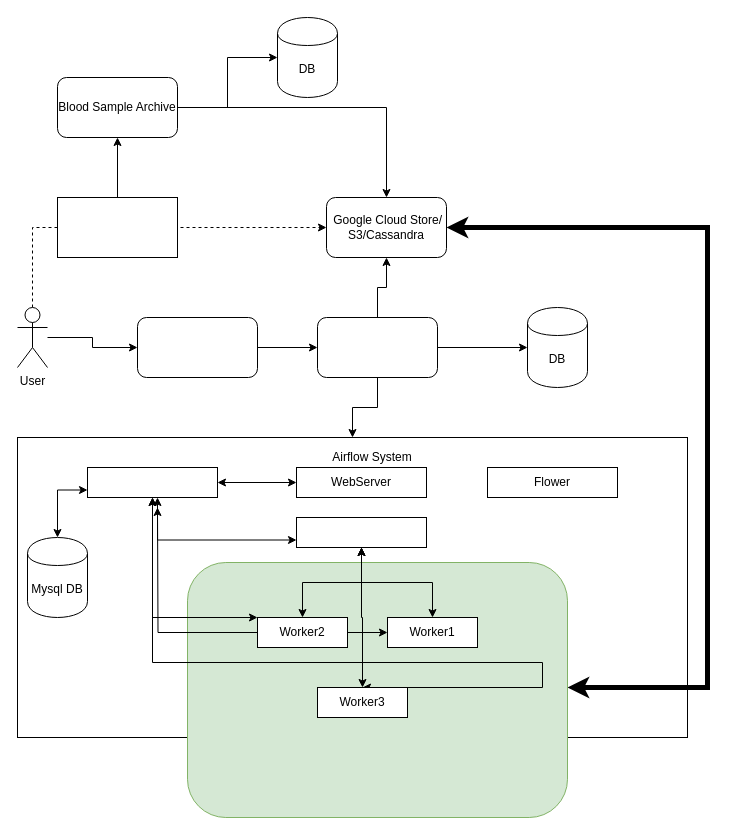
Some shapes in this 736 by 835 pixel diagram are drawn without their labels. The shapes that lost their labels are listed below. From the top down, each one's centre as x and y in pixels, then its label:
point 117,227: Blood Sample Collection Lab
point 197,347: Load Balancer
point 377,347: Kube Web App Service
point 152,482: Scheduler
point 361,532: RabbitMq
